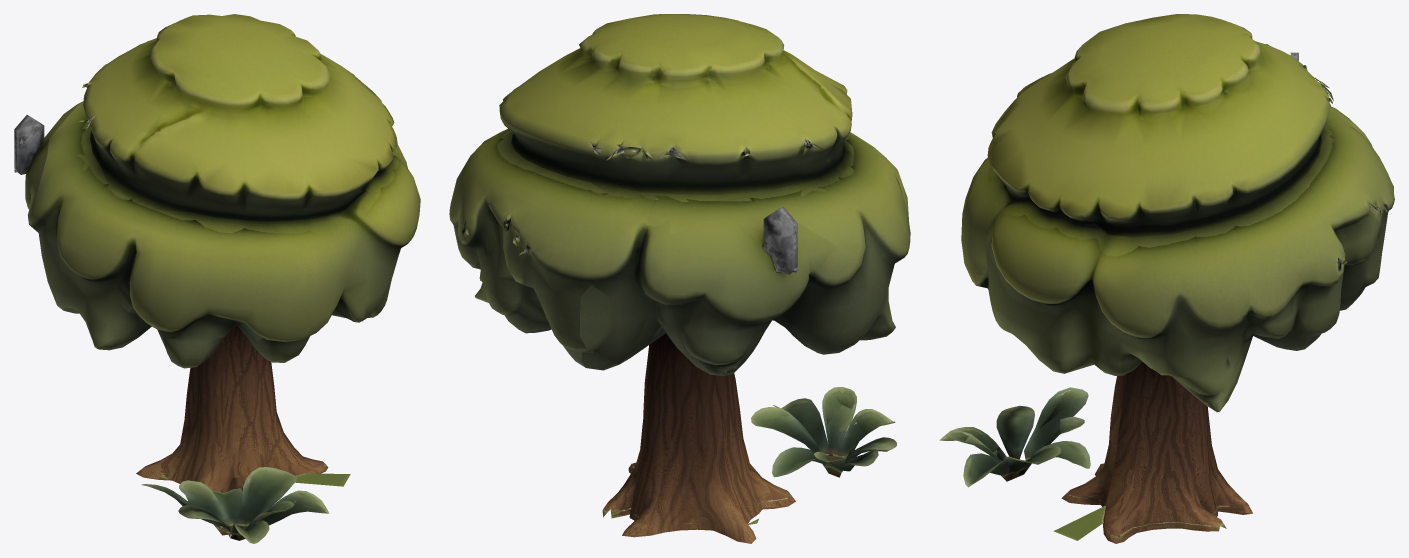
Rendered from stylized-tree.glb.
3 views of the same model, side by side, from view 1: azimuth 30°, elevation 25°; view 2: azimuth 150°, elevation 25°; view 3: azimuth 270°, elevation 25° (orthographic). The views are drawn at different scales.
Parts seen in each view (by area): view 1: tripo_part_8, tripo_part_7, tripo_part_5, tripo_part_1, tripo_part_2, tripo_part_9, tripo_part_0; view 2: tripo_part_8, tripo_part_7, tripo_part_5, tripo_part_9, tripo_part_1, tripo_part_10; view 3: tripo_part_8, tripo_part_7, tripo_part_5, tripo_part_1, tripo_part_0.
Part boxes in pixels (bbox=[...]): tripo_part_8: bbox=[28, 101, 420, 350]; tripo_part_7: bbox=[79, 14, 397, 221]; tripo_part_5: bbox=[136, 324, 350, 501]; tripo_part_1: bbox=[141, 467, 329, 543]; tripo_part_2: bbox=[164, 307, 335, 368]; tripo_part_9: bbox=[14, 101, 82, 209]; tripo_part_0: bbox=[178, 504, 230, 537]; tripo_part_8: bbox=[449, 128, 910, 376]; tripo_part_7: bbox=[499, 14, 853, 195]; tripo_part_5: bbox=[602, 333, 795, 543]; tripo_part_9: bbox=[635, 207, 836, 375]; tripo_part_1: bbox=[751, 387, 895, 477]; tripo_part_10: bbox=[580, 284, 660, 369]; tripo_part_8: bbox=[961, 52, 1394, 412]; tripo_part_7: bbox=[987, 14, 1333, 237]; tripo_part_5: bbox=[1053, 361, 1252, 543]; tripo_part_1: bbox=[939, 387, 1090, 487]; tripo_part_0: bbox=[996, 405, 1034, 459].
Size of the model in its own units: 0.8689 by 1 by 0.8826.
Materials: 9 (9 with a texture image).
